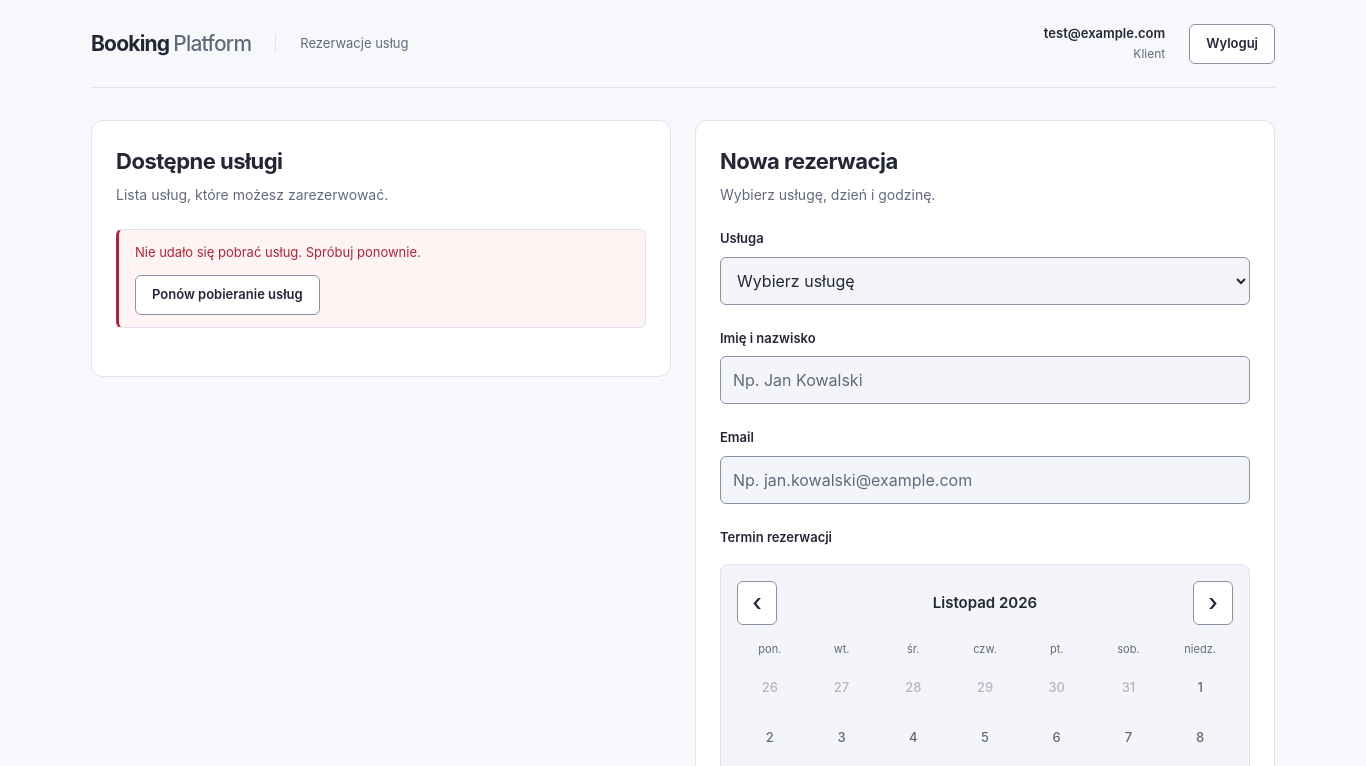
Test: list request recovery › distinguishes failed http service requests from successful empty results
Expected: the button "Wyloguj" is shown, [1189, 24, 1275, 64]
Expected: the text "Nie udało się pobrać usług. Spróbuj ponownie." is shown, [135, 244, 421, 260]
Click the button "Ponów pobieranie usług" at coordinates (227, 295), box [135, 275, 320, 315]
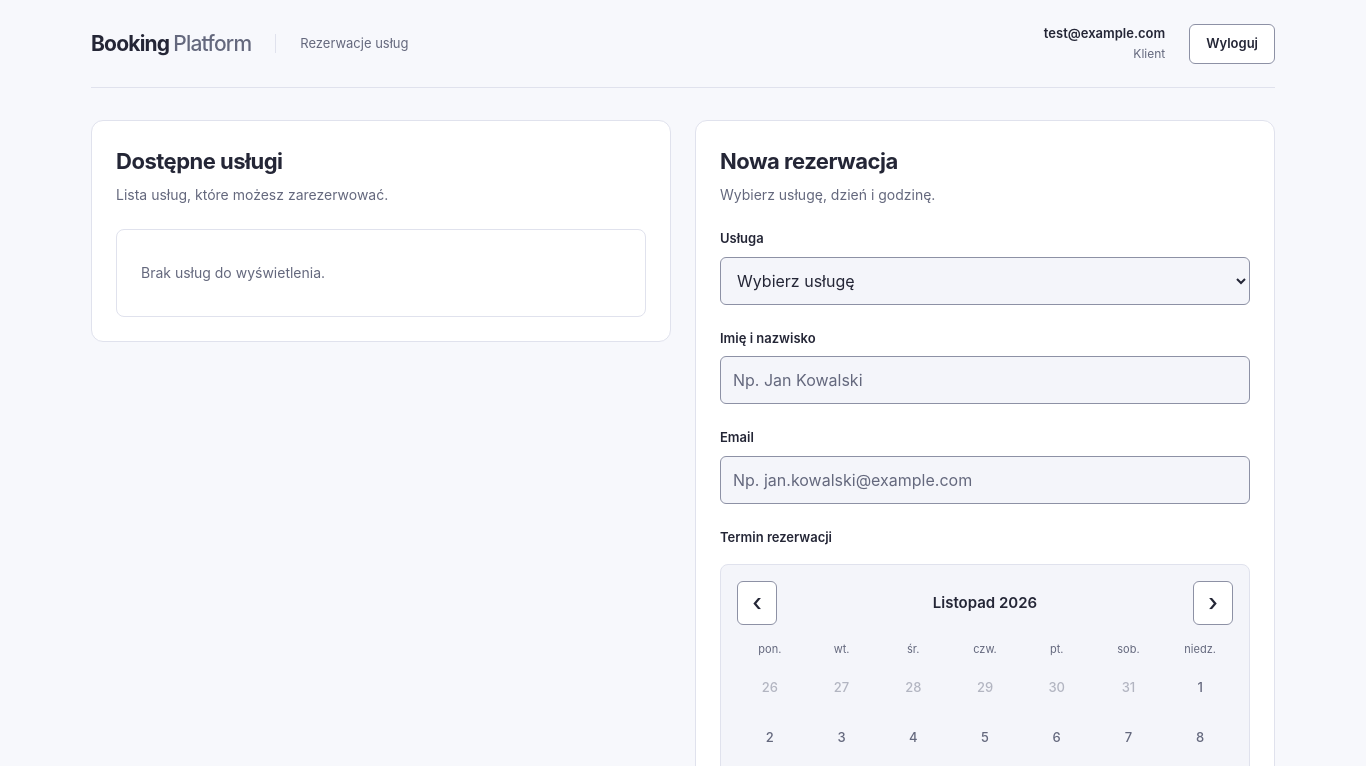
Expected: the text "Brak usług do wyświetlenia." is shown, [116, 229, 646, 317]
Expected: the button "Ponów pobieranie usług" is gone
